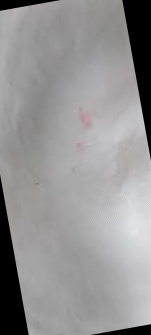lipstick: (73, 102, 96, 133), (72, 140, 88, 155)
